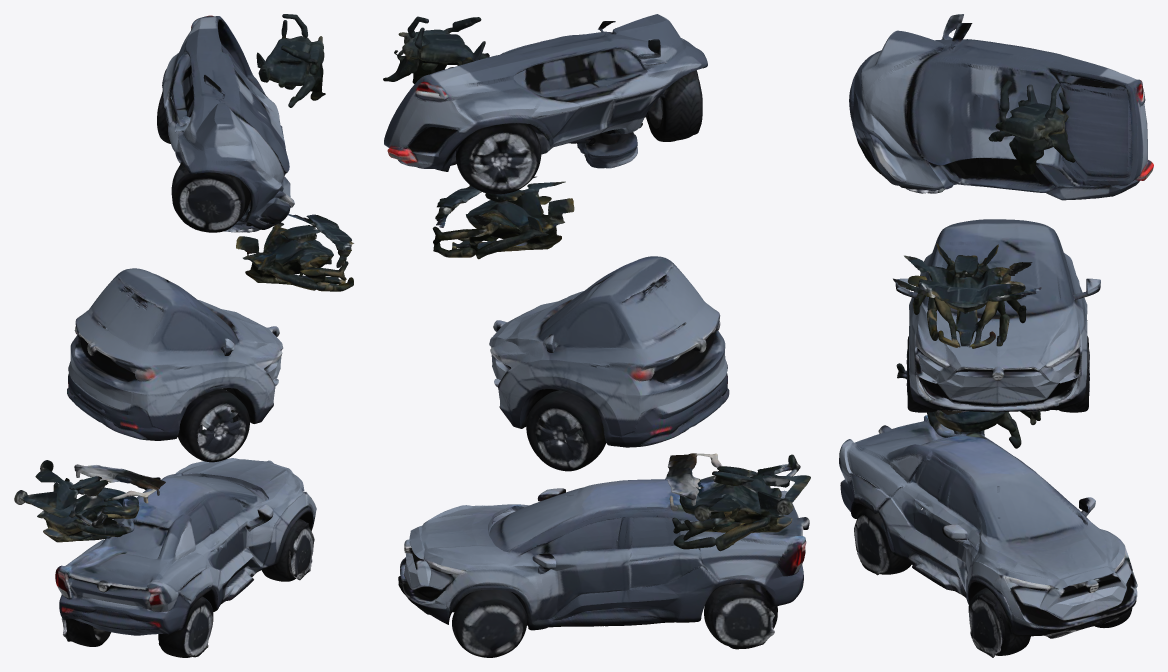
Rendered from truck.glb.
3 renders of one model, left to right at view 1: azimuth 30°, elevation 25°; view 2: azimuth 150°, elevation 25°; view 3: azimuth 270°, elevation 25°, orthographic. The views are drawn at different scales.
Parts seen in each view (by area): view 1: tripo_node_d7a49452-bd20-4e1c-8ec6-b4a6000fdfb9; view 2: tripo_node_d7a49452-bd20-4e1c-8ec6-b4a6000fdfb9; view 3: tripo_node_d7a49452-bd20-4e1c-8ec6-b4a6000fdfb9.
Boxes of the visible parts, <box> form: tripo_node_d7a49452-bd20-4e1c-8ec6-b4a6000fdfb9: <box>14,14,353,657</box>; tripo_node_d7a49452-bd20-4e1c-8ec6-b4a6000fdfb9: <box>383,14,810,657</box>; tripo_node_d7a49452-bd20-4e1c-8ec6-b4a6000fdfb9: <box>839,14,1153,657</box>.
Bounding box in the file's own units: 0.6505 × 1 × 0.4911.
1 material, 1 textured.
